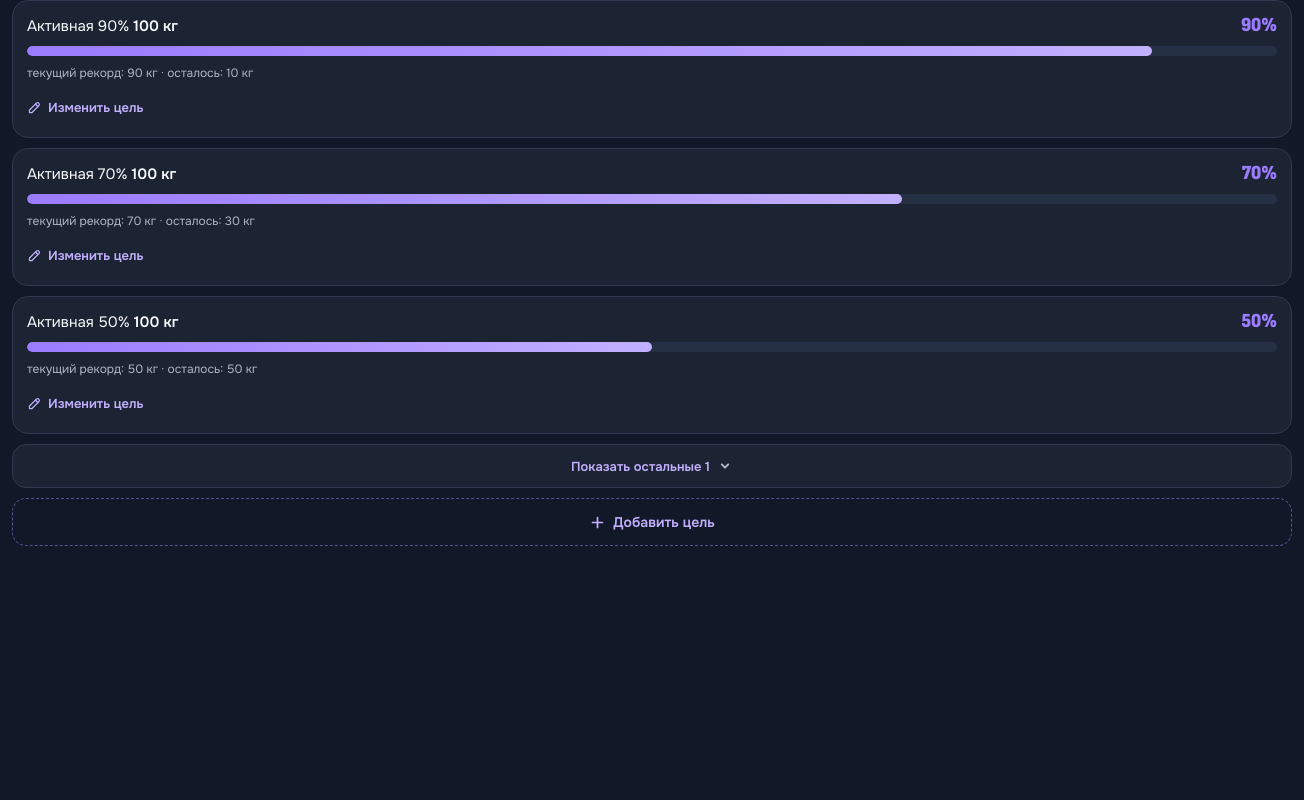
Test case: GoalsList › достигнутые цели не вытесняют ближайшие активные и идут отдельной группой
Expected: the text "Готовая" is not shown
Expected: the text "Активная 90%" is shown, [27,16,129,36]
Click the button "Показать остальные 1" at (652, 466), box [12,444,1292,488]
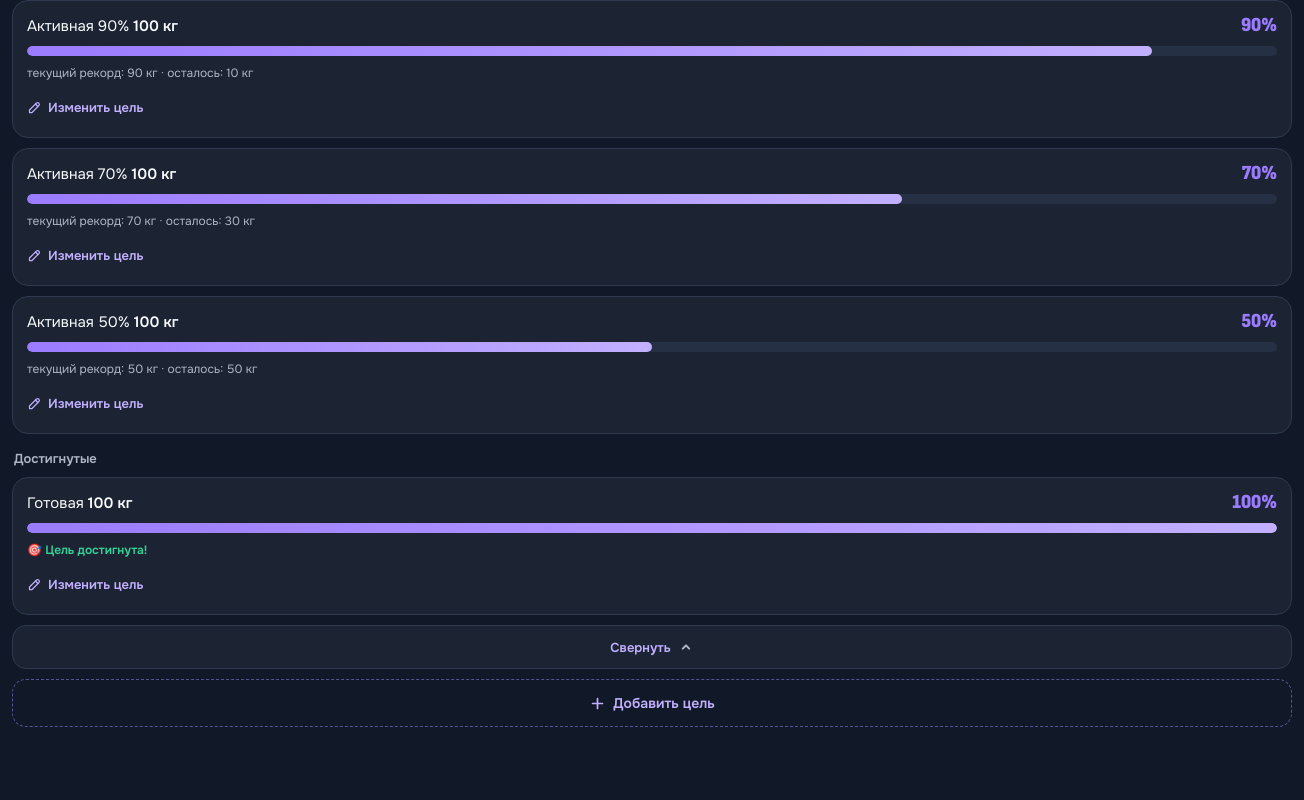
Result: the text "Достигнутые" is shown at [14,450,97,467]
Result: the text "Готовая" is shown at [27,493,84,513]
